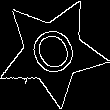O_SE: (22, 20, 83, 84)
